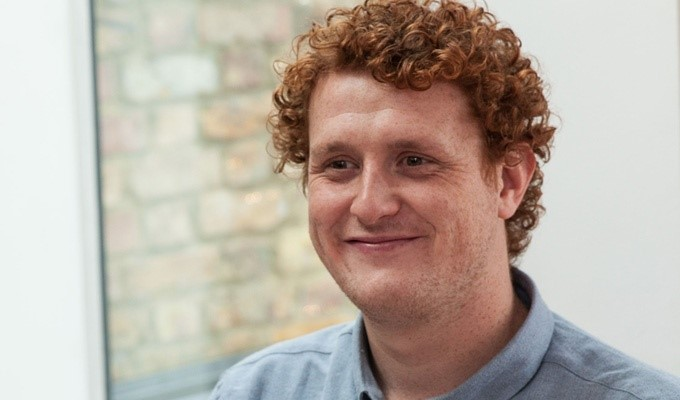face_no_mask: (300, 6, 537, 318)
